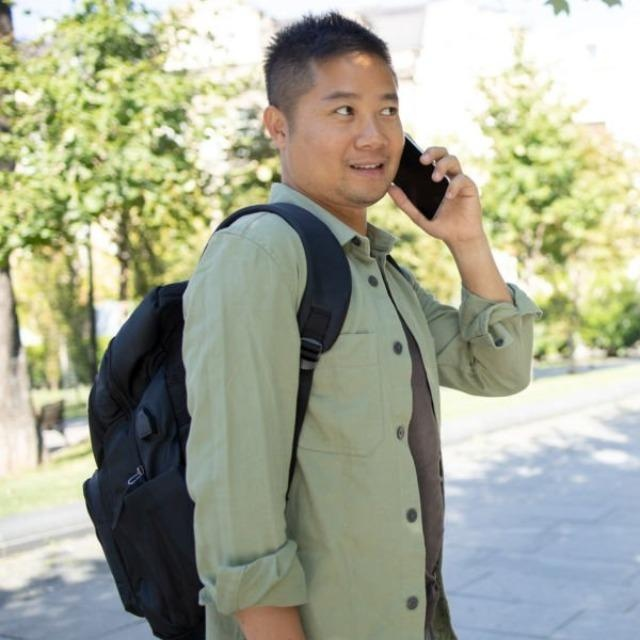Sin_Casco_Mascarrilla: (261, 14, 407, 206)
Sin_Chaleco: (195, 207, 453, 632)
